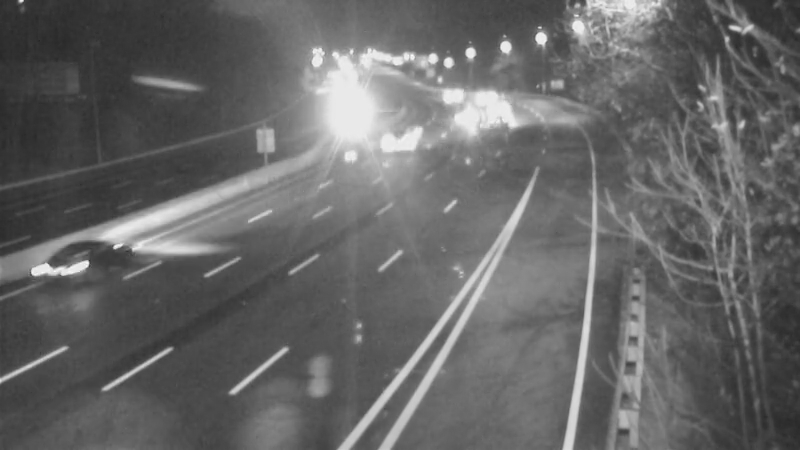vehicle: (27, 230, 107, 310), (419, 66, 469, 116), (453, 70, 503, 120), (470, 82, 520, 132), (439, 92, 489, 142), (469, 96, 519, 146), (377, 112, 427, 162), (314, 88, 364, 138)
